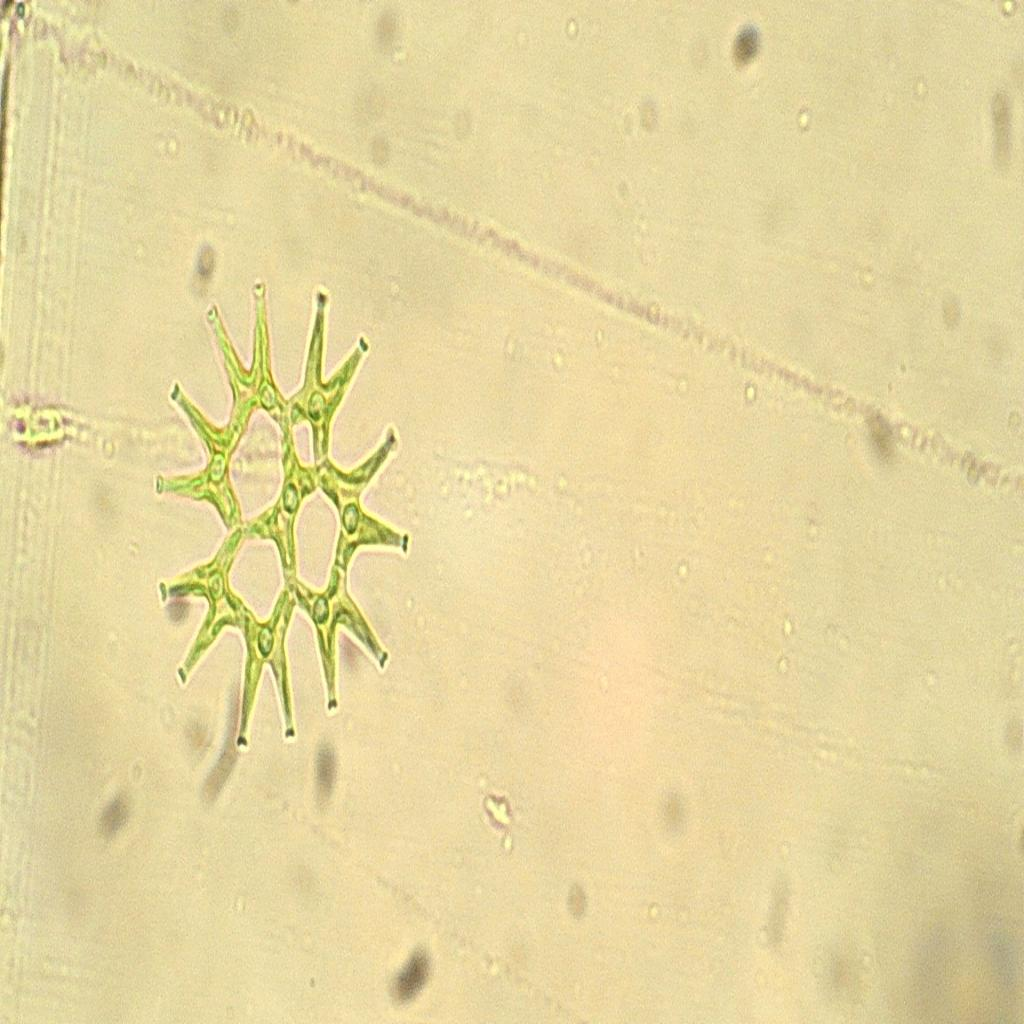Pediastrum_1T: (136, 254, 418, 760)
